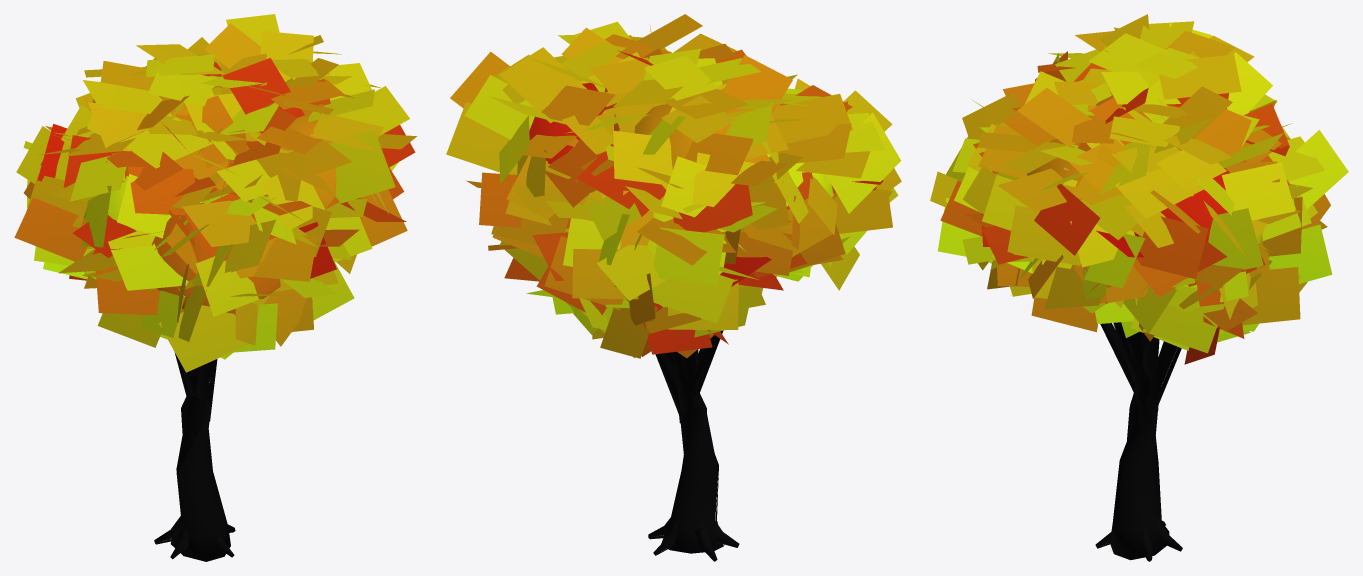
The model's file is tree_broadleaf.glb.
3 renders of one model, left to right at view 1: azimuth 30°, elevation 25°; view 2: azimuth 150°, elevation 25°; view 3: azimuth 270°, elevation 25°, orthographic. The views are drawn at different scales.
Visible parts, largest first — view 1: foliage_leaf_sprays, bark_branching_trunk, foliage_painted_crown; view 2: foliage_leaf_sprays, bark_branching_trunk, foliage_painted_crown; view 3: foliage_leaf_sprays, bark_branching_trunk, foliage_painted_crown.
Boxes of the visible parts, x1,y1,x2,y2 form: foliage_leaf_sprays: (14,14,416,372); bark_branching_trunk: (154,352,235,561); foliage_painted_crown: (84,96,336,315); foliage_leaf_sprays: (446,14,901,358); bark_branching_trunk: (648,331,739,561); foliage_painted_crown: (529,82,837,307); foliage_leaf_sprays: (930,14,1348,364); bark_branching_trunk: (1095,322,1182,561); foliage_painted_crown: (1027,139,1270,258).
Size of the model in its own units: 4.5 by 5.27 by 4.1.
